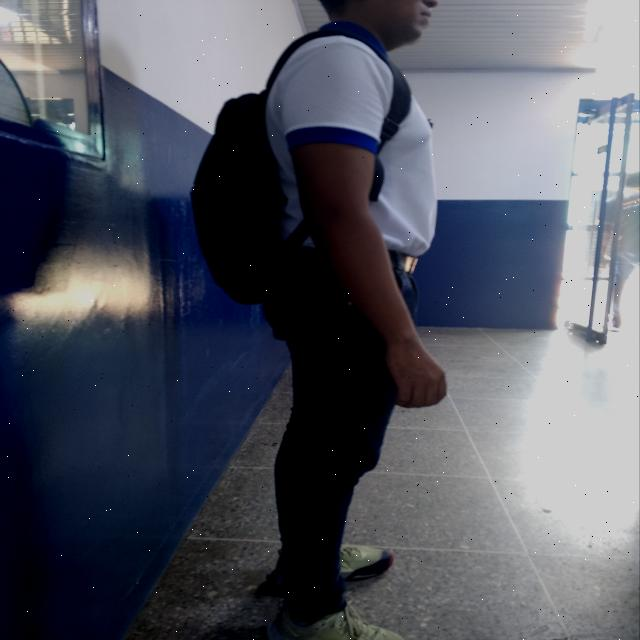pantalon_oscuro: (260, 261, 420, 623)
uniforme_superior: (264, 23, 439, 256)
